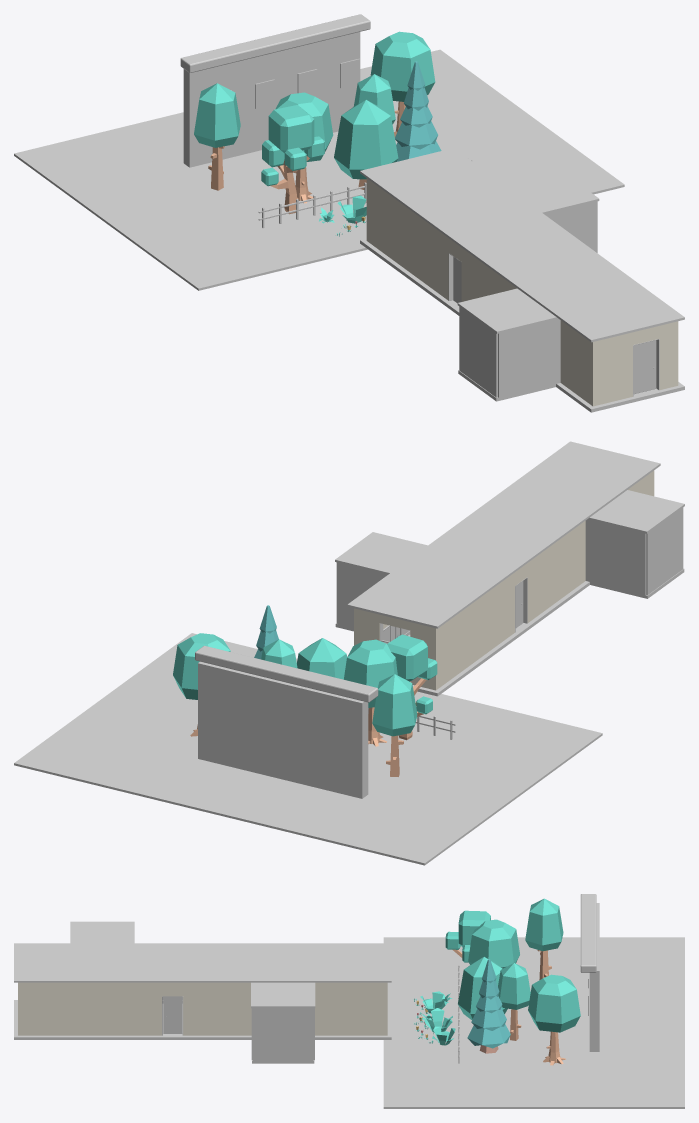
The model's file is house_hall.glb.
3 renders of one model, top to bottom at view 1: azimuth 30°, elevation 25°; view 2: azimuth 150°, elevation 25°; view 3: azimuth 270°, elevation 25°, orthographic. The views are drawn at different scales.
Visible parts, largest first — view 1: grass, ceiling, k_leafsGreen, wall, house_far, wall_next, roof_far, k_leafsDark, k_woodBark, floor_wood, door, window_far (+3 smaller); view 2: grass, ceiling, house_far, wall, k_leafsGreen, wall_next, roof_far, floor_wood, k_woodBark, k_leafsDark; view 3: grass, ceiling, wall, k_leafsGreen, wall_next, k_leafsDark, floor_wood, roof_far, k_grass, house_far, k_woodBark, door.
Boxes of the visible parts, x1,y1,x2,y2 form: grass: [14, 49, 624, 290]; ceiling: [360, 148, 684, 342]; k_leafsGreen: [194, 31, 435, 186]; wall: [366, 178, 678, 406]; house_far: [183, 32, 360, 167]; wall_next: [459, 201, 597, 397]; roof_far: [180, 14, 370, 72]; k_leafsDark: [395, 61, 441, 161]; k_woodBark: [208, 101, 405, 214]; floor_wood: [360, 238, 684, 412]; door: [453, 257, 656, 394]; window_far: [231, 58, 359, 108]; grass: [14, 633, 602, 865]; ceiling: [335, 441, 684, 628]; house_far: [198, 661, 368, 798]; wall: [354, 470, 654, 690]; k_leafsGreen: [173, 633, 437, 736]; wall_next: [336, 507, 683, 628]; roof_far: [195, 645, 378, 702]; floor_wood: [408, 581, 589, 696]; k_woodBark: [190, 678, 426, 776]; k_leafsDark: [254, 605, 278, 659]; grass: [383, 937, 684, 1108]; ceiling: [14, 921, 391, 1008]; wall: [18, 982, 387, 1035]; k_leafsGreen: [445, 898, 580, 1032]; wall_next: [251, 1008, 314, 1060]; k_leafsDark: [467, 959, 510, 1048]; floor_wood: [14, 1000, 391, 1039]; roof_far: [580, 894, 596, 972]; k_grass: [414, 991, 455, 1045]; house_far: [589, 903, 599, 1051]; k_woodBark: [452, 949, 565, 1065]; door: [163, 996, 182, 1033].
Bounding box in the file's own units: 40 × 10.1 × 66.8.
